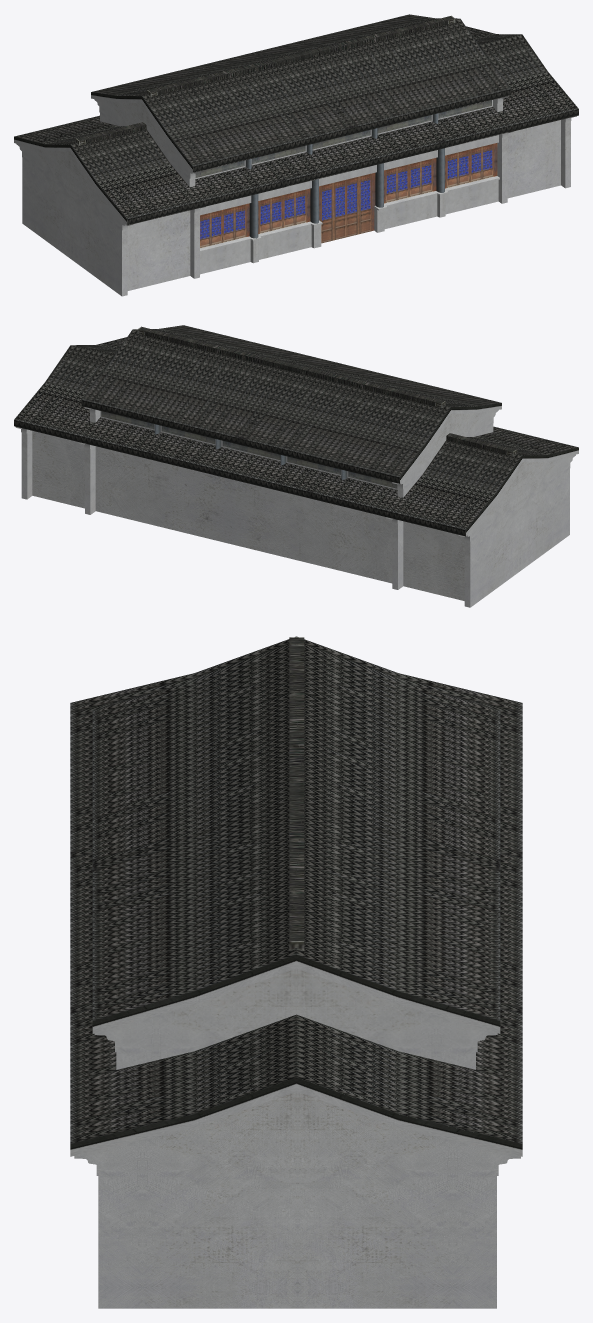
The model's file is Building_Center.FBX.
3 views of the same model, one above another, from view 1: azimuth 30°, elevation 25°; view 2: azimuth 150°, elevation 25°; view 3: azimuth 270°, elevation 25° (orthographic). The views are drawn at different scales.
Parts seen in each view (by area): view 1: Building_Center; view 2: Building_Center; view 3: Building_Center.
Boxes of the visible parts, x1,y1,x2,y2 form: Building_Center: (14, 14, 578, 296); Building_Center: (14, 325, 578, 607); Building_Center: (70, 636, 522, 1308).
Bounding box in the file's own units: 2384 × 757 × 1033.
